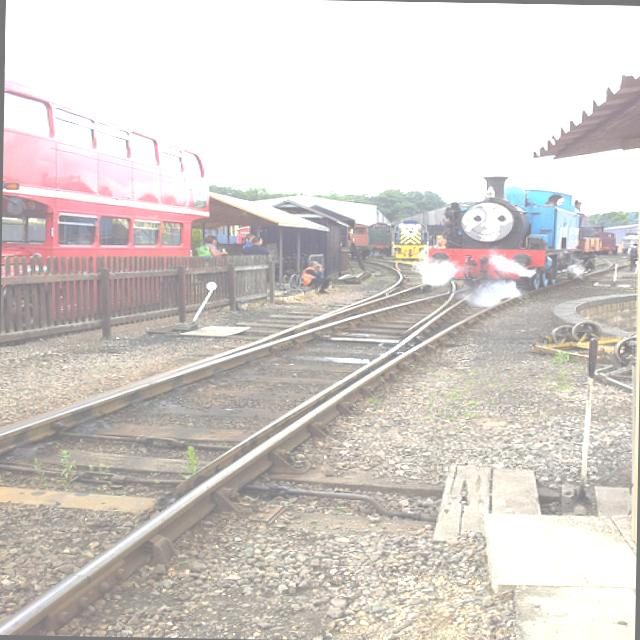Vehicle: (1, 64, 210, 262)
